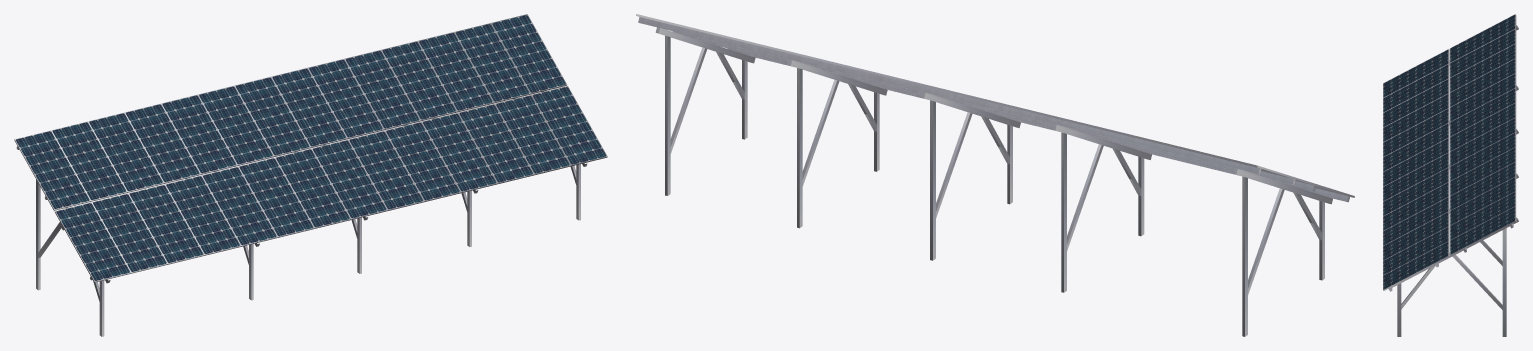
3 renders of one model, left to right at view 1: azimuth 30°, elevation 25°; view 2: azimuth 150°, elevation 25°; view 3: azimuth 270°, elevation 25°, orthographic. The views are drawn at different scales.
Parts seen in each view (by area): view 1: Rectangle1590, Rectangle1589, Line1046; view 2: Line1044, Rectangle1589, Line1046, Line1045, Rectangle1590; view 3: Rectangle1590, Rectangle1589, Line1046, Line1045.
Part boxes in pixels (x1,y1,x2,y2): Rectangle1590: (14,14,607,282); Rectangle1589: (36,98,580,336); Line1046: (38,165,576,301); Line1044: (638,17,1349,202); Rectangle1589: (665,35,1324,336); Line1046: (670,47,1321,294); Line1045: (655,27,1332,204); Rectangle1590: (636,14,1354,197); Rectangle1590: (1383,14,1516,290); Rectangle1589: (1397,228,1506,336); Line1046: (1401,240,1502,309); Line1045: (1392,25,1518,287).
Bounding box in the file's own units: 15.44 × 4.29 × 4.29.
2 materials, 2 textured.
